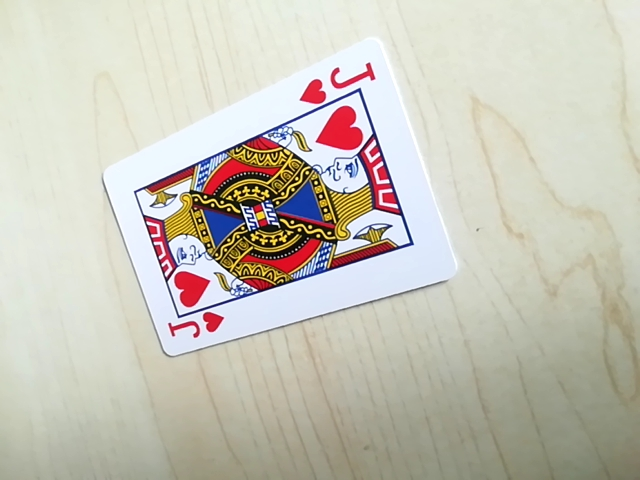hx j: (296, 55, 378, 105), (160, 308, 226, 349)
